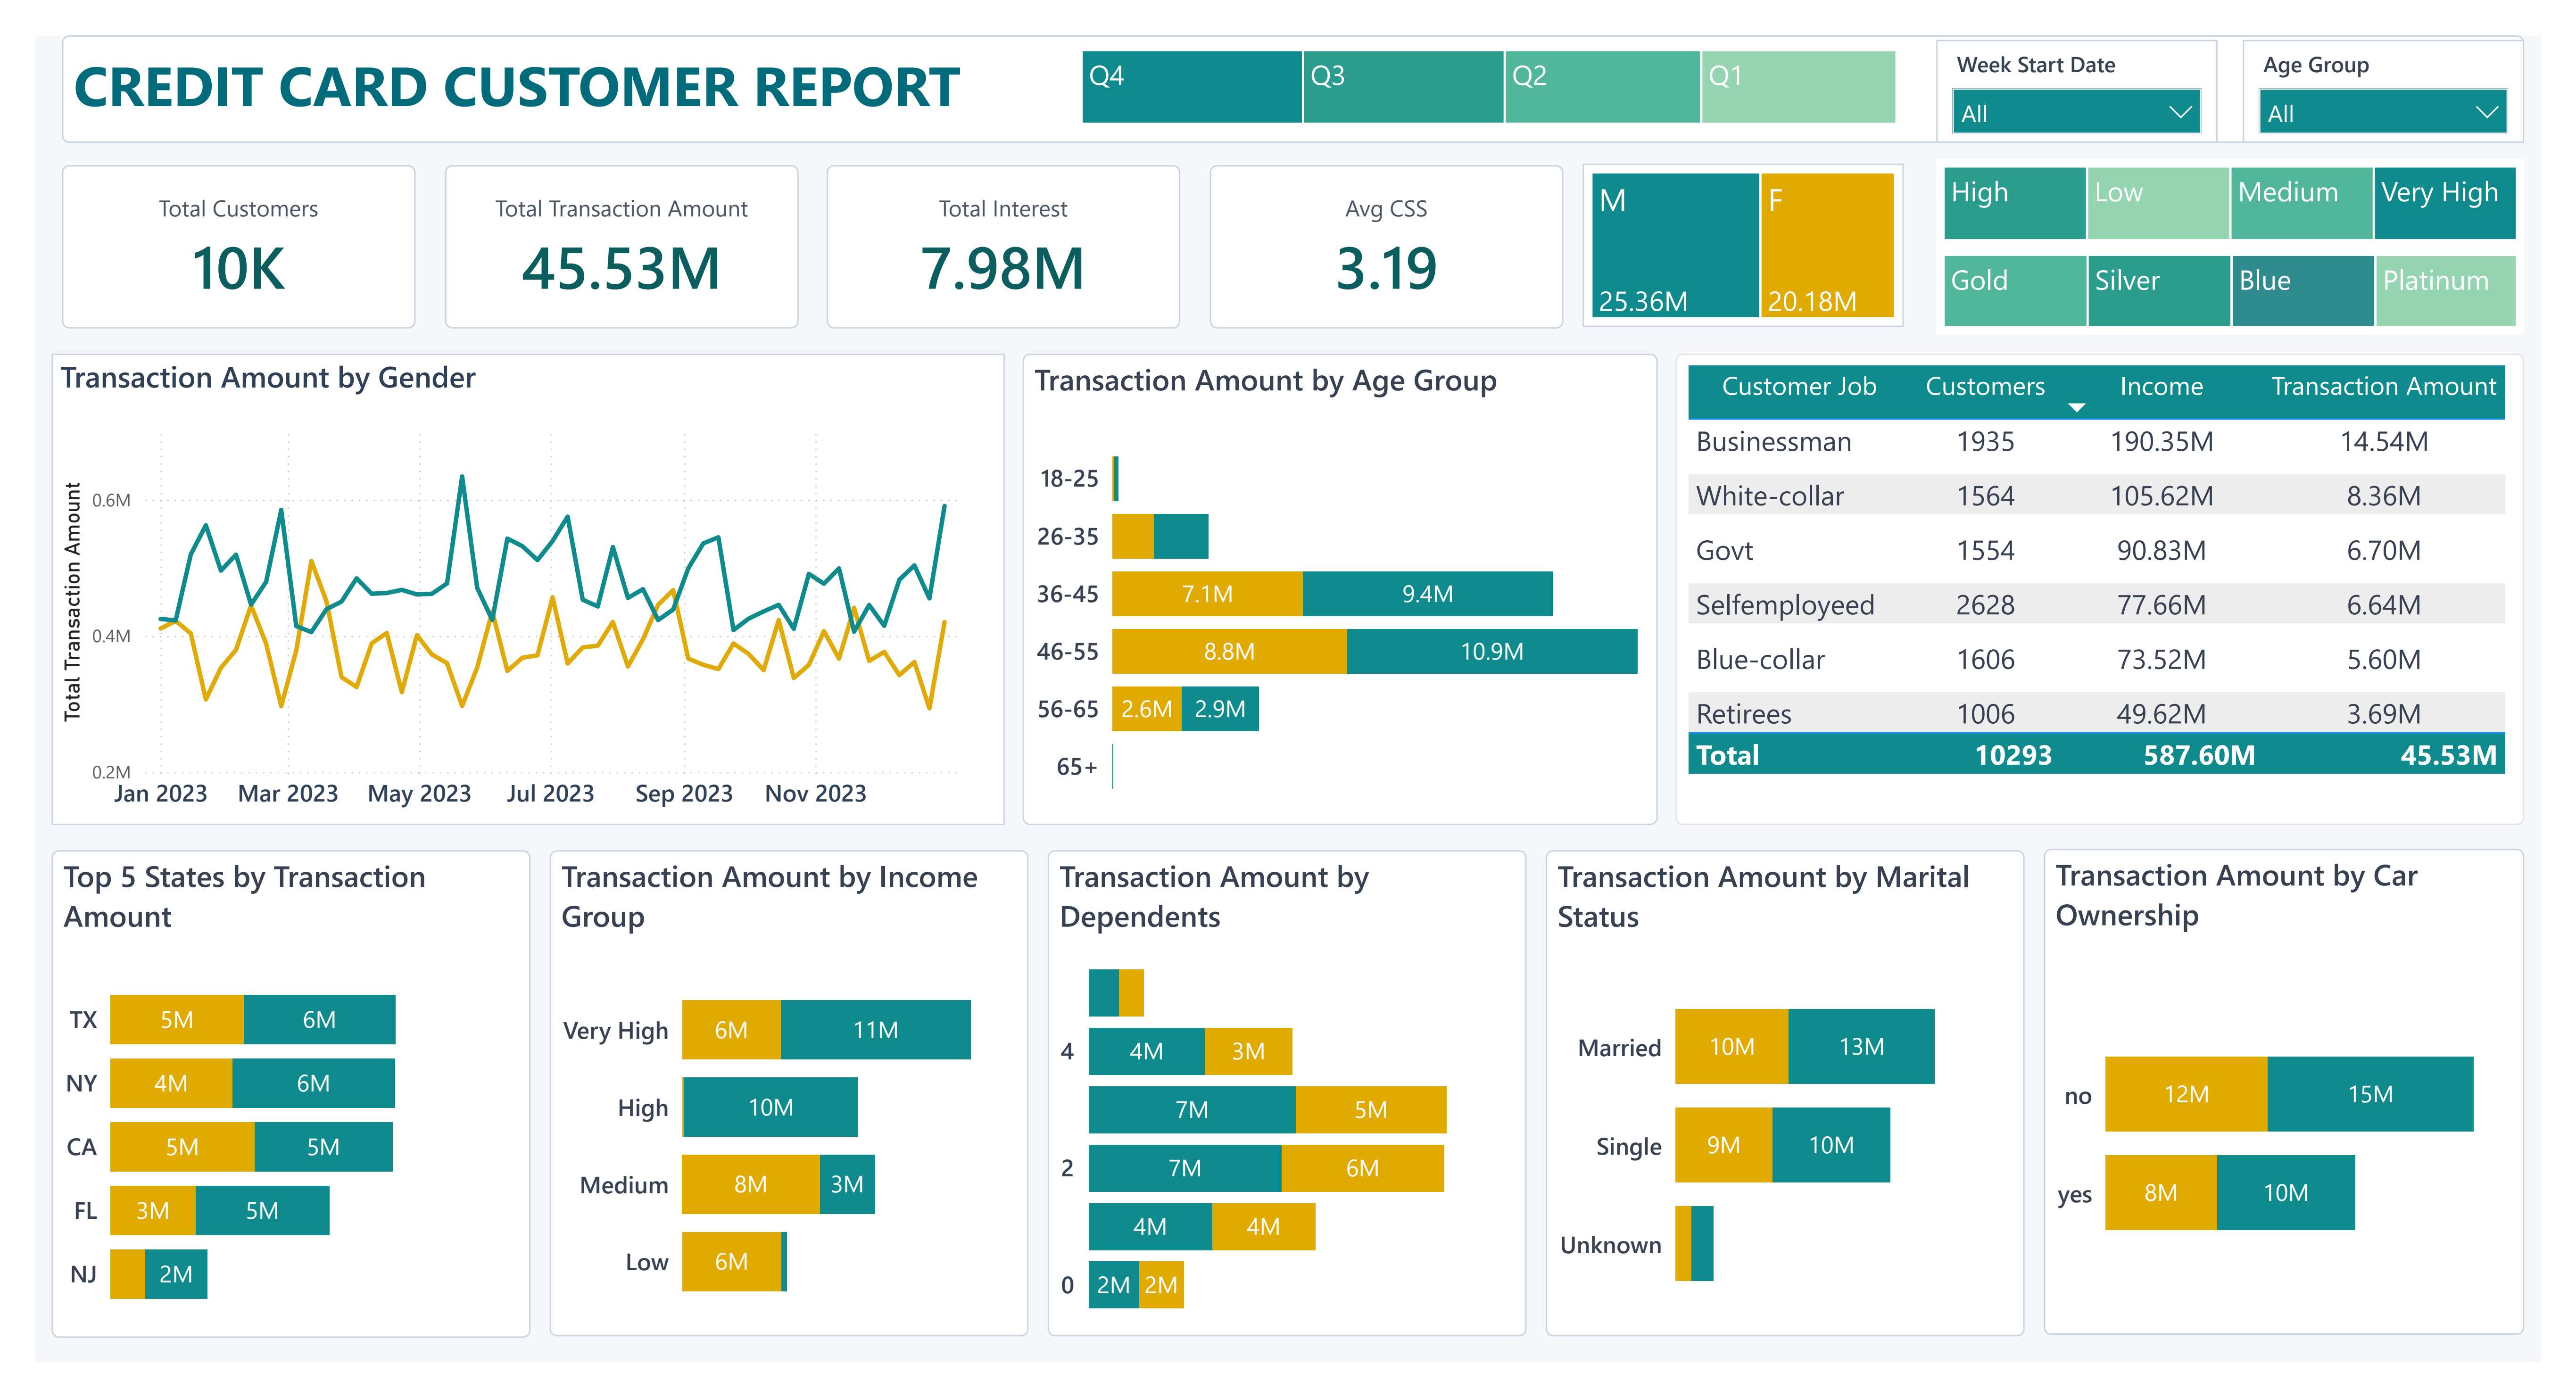

This screenshot's page, from the dashboard's own definition file:
{"tool":"powerbi","page":{"name":"Customer Report","canvas":[1700,900],"ordinal":1},"visuals":[{"type":"textbox","box":[17.7,0,1671,72.6],"z":0},{"type":"cardVisual","fields":{"Data":["_Measures.Total Customers"]},"box":[18.3,87.7,240,111.5],"z":1000},{"type":"cardVisual","fields":{"Data":["_Measures.Total Interest"]},"box":[537.4,87.7,240,111],"z":2000},{"type":"barChart","title":"Top 5 States by Transaction Amount","fields":{"Category":["customer_details.state_cd"],"Y":["_Measures.Total Transaction Amount"],"Series":["customer_details.gender"]},"box":[11.3,553.2,325,330.6],"z":3000},{"type":"barChart","title":"Transaction Amount by Income Group","fields":{"Category":["customer_details.Income Group"],"Y":["_Measures.Total Transaction Amount"],"Series":["customer_details.gender"]},"box":[349.2,553.2,325,330],"z":4000},{"type":"barChart","title":"Transaction Amount by Dependents","fields":{"Category":["customer_details.dependent_count"],"Y":["_Measures.Total Transaction Amount"],"Series":["customer_details.gender"]},"box":[687.1,553.2,325,330],"z":5000},{"type":"treemap","title":"Card Category","fields":{"Group":["cc_details.card_category"],"Values":["Avg(cc_details.client_num)"]},"box":[1290.3,143.5,398.4,59.7],"z":6000},{"type":"treemap","title":"Income Group","fields":{"Values":["Avg(cc_details.client_num)"],"Group":["customer_details.Income Group"]},"box":[1290.3,83.9,398.4,59.7],"z":7000},{"type":"treemap","title":"Gender","fields":{"Group":["customer_details.gender"],"Values":["_Measures.Total Transaction Amount"]},"box":[1050,87.1,217.7,111.3],"z":8000},{"type":"slicer","fields":{"Values":["cc_details.week_start_date"]},"box":[1290.3,3.2,190.3,69.4],"z":9000},{"type":"treemap","fields":{"Group":["cc_details.qtr"],"Values":["Avg(cc_details.client_num)"]},"box":[704.8,4.8,562.9,59.7],"z":10000},{"type":"cardVisual","fields":{"Data":["_Measures.Total Transaction Amount"]},"box":[277.8,87.7,240,111],"z":11000},{"type":"barChart","title":"Transaction Amount by Marital Status","fields":{"Category":["customer_details.marital_status"],"Y":["_Measures.Total Transaction Amount"],"Series":["customer_details.gender"]},"box":[1025,553.2,325,330],"z":12000},{"type":"tableEx","title":"Performance by Customer Job","fields":{"Values":["customer_details.customer_job","_Measures.Total Customers","Sum(customer_details.income)","_Measures.Total Transaction Amount"]},"box":[1112.9,215.9,575.8,320],"z":13000},{"type":"lineChart","title":"Transaction Amount by Gender","fields":{"Series":["customer_details.gender"],"Category":["cc_details.week_start_date.Variation.Date Hierarchy.Year"],"Y":["_Measures.Total Transaction Amount"]},"box":[11.3,216.2,646.8,319.4],"z":14000},{"type":"barChart","title":"Transaction Amount by Age Group","fields":{"Category":["customer_details.Age Group"],"Y":["_Measures.Total Transaction Amount"],"Series":["customer_details.gender"]},"box":[670.2,216.2,430.6,319.4],"z":15000},{"type":"barChart","title":"Transaction Amount by Car Ownership","fields":{"Category":["customer_details.car_owner"],"Y":["_Measures.Total Transaction Amount"],"Series":["customer_details.gender"]},"box":[1362.9,551.6,325.8,330.6],"z":16000},{"type":"cardVisual","fields":{"Data":["_Measures.Avg CSS"]},"box":[797,87.7,240,111],"z":17000},{"type":"slicer","fields":{"Values":["customer_details.Age Group"]},"box":[1498.4,3.2,190.3,69.4],"z":18000}]}

Visuals, with their boxes on the page's 1700x900 design canvas (x1, y1, x2, y2). These are canvas units, not pixel positions in the 2576x1397 screenshot, which may show the page scaled, cropped or inside an application window:
textbox: BBox(18, 0, 1689, 73)
cardVisual - _Measures.Total Customers: BBox(18, 88, 258, 199)
cardVisual - _Measures.Total Interest: BBox(537, 88, 777, 199)
"Top 5 States by Transaction Amount" barChart: BBox(11, 553, 336, 884)
"Transaction Amount by Income Group" barChart: BBox(349, 553, 674, 883)
"Transaction Amount by Dependents" barChart: BBox(687, 553, 1012, 883)
"Card Category" treemap: BBox(1290, 144, 1689, 203)
"Income Group" treemap: BBox(1290, 84, 1689, 144)
"Gender" treemap: BBox(1050, 87, 1268, 198)
slicer - cc_details.week_start_date: BBox(1290, 3, 1481, 73)
treemap - cc_details.qtr x Avg(cc_details.client_num): BBox(705, 5, 1268, 64)
cardVisual - _Measures.Total Transaction Amount: BBox(278, 88, 518, 199)
"Transaction Amount by Marital Status" barChart: BBox(1025, 553, 1350, 883)
"Performance by Customer Job" tableEx: BBox(1113, 216, 1689, 536)
"Transaction Amount by Gender" lineChart: BBox(11, 216, 658, 536)
"Transaction Amount by Age Group" barChart: BBox(670, 216, 1101, 536)
"Transaction Amount by Car Ownership" barChart: BBox(1363, 552, 1689, 882)
cardVisual - _Measures.Avg CSS: BBox(797, 88, 1037, 199)
slicer - customer_details.Age Group: BBox(1498, 3, 1689, 73)
